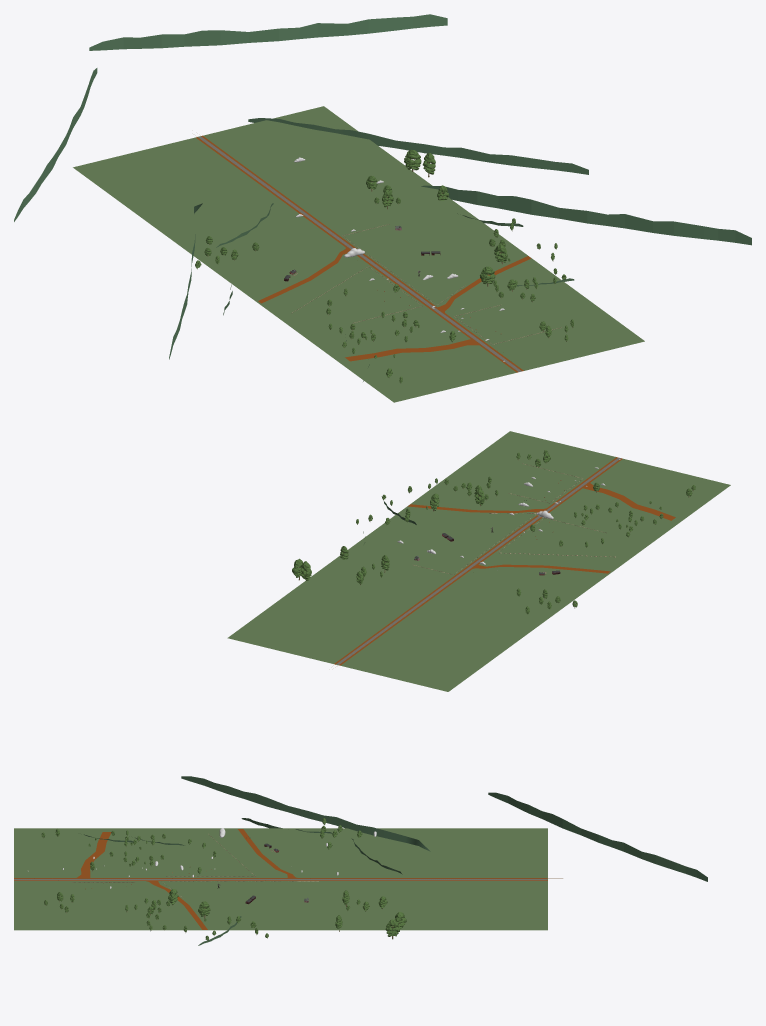
3 views of the same model, one above another, from view 1: azimuth 30°, elevation 25°; view 2: azimuth 150°, elevation 25°; view 3: azimuth 270°, elevation 25° (orthographic). The views are drawn at different scales.
Visible parts, largest first — view 1: Regional.001; view 2: Regional.001; view 3: Regional.001.
Boxes of the visible parts, x1,y1,x2,y2 form: Regional.001: (14, 14, 751, 402); Regional.001: (227, 431, 730, 691); Regional.001: (14, 776, 707, 945).
Bounding box in the file's own units: 1689 × 182 × 2314.
2 materials, 1 textured.
